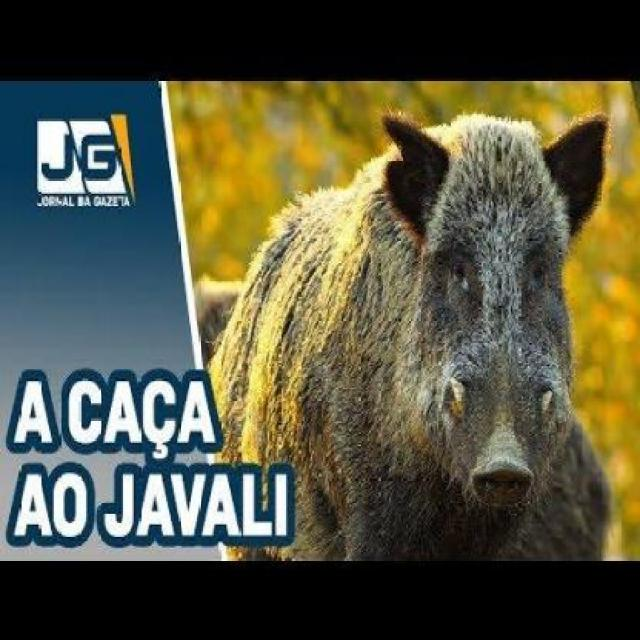Wild Boar: (206, 114, 619, 640)
